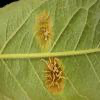Apple rust leaf: (27, 4, 74, 99)
